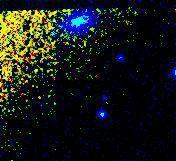star: (80, 14, 110, 44)
